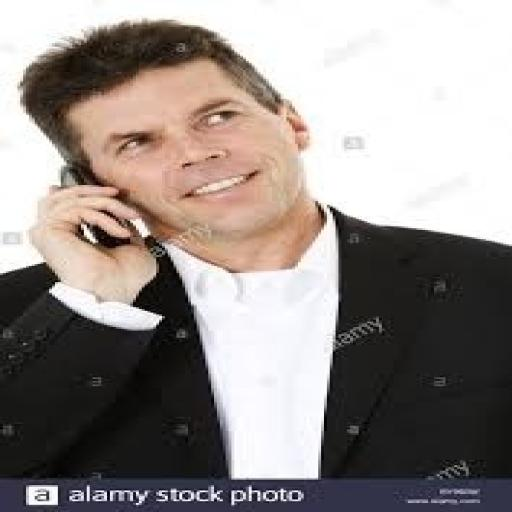calling: (0, 16, 509, 480)
